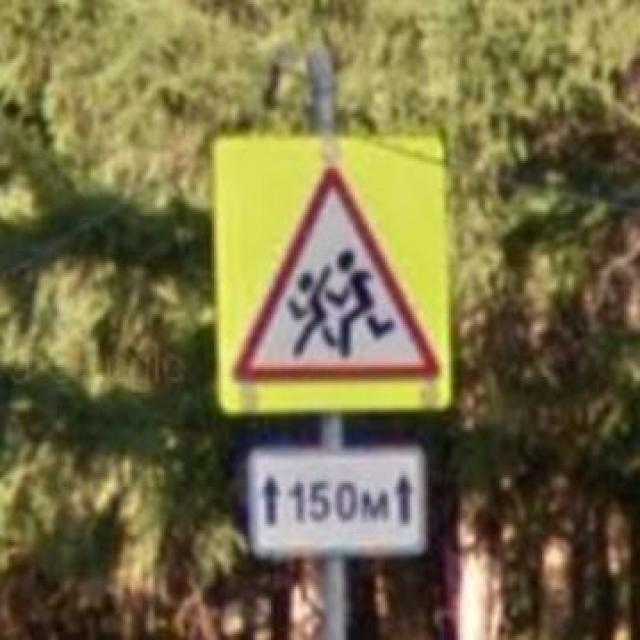Dzieci: (224, 159, 446, 387)
